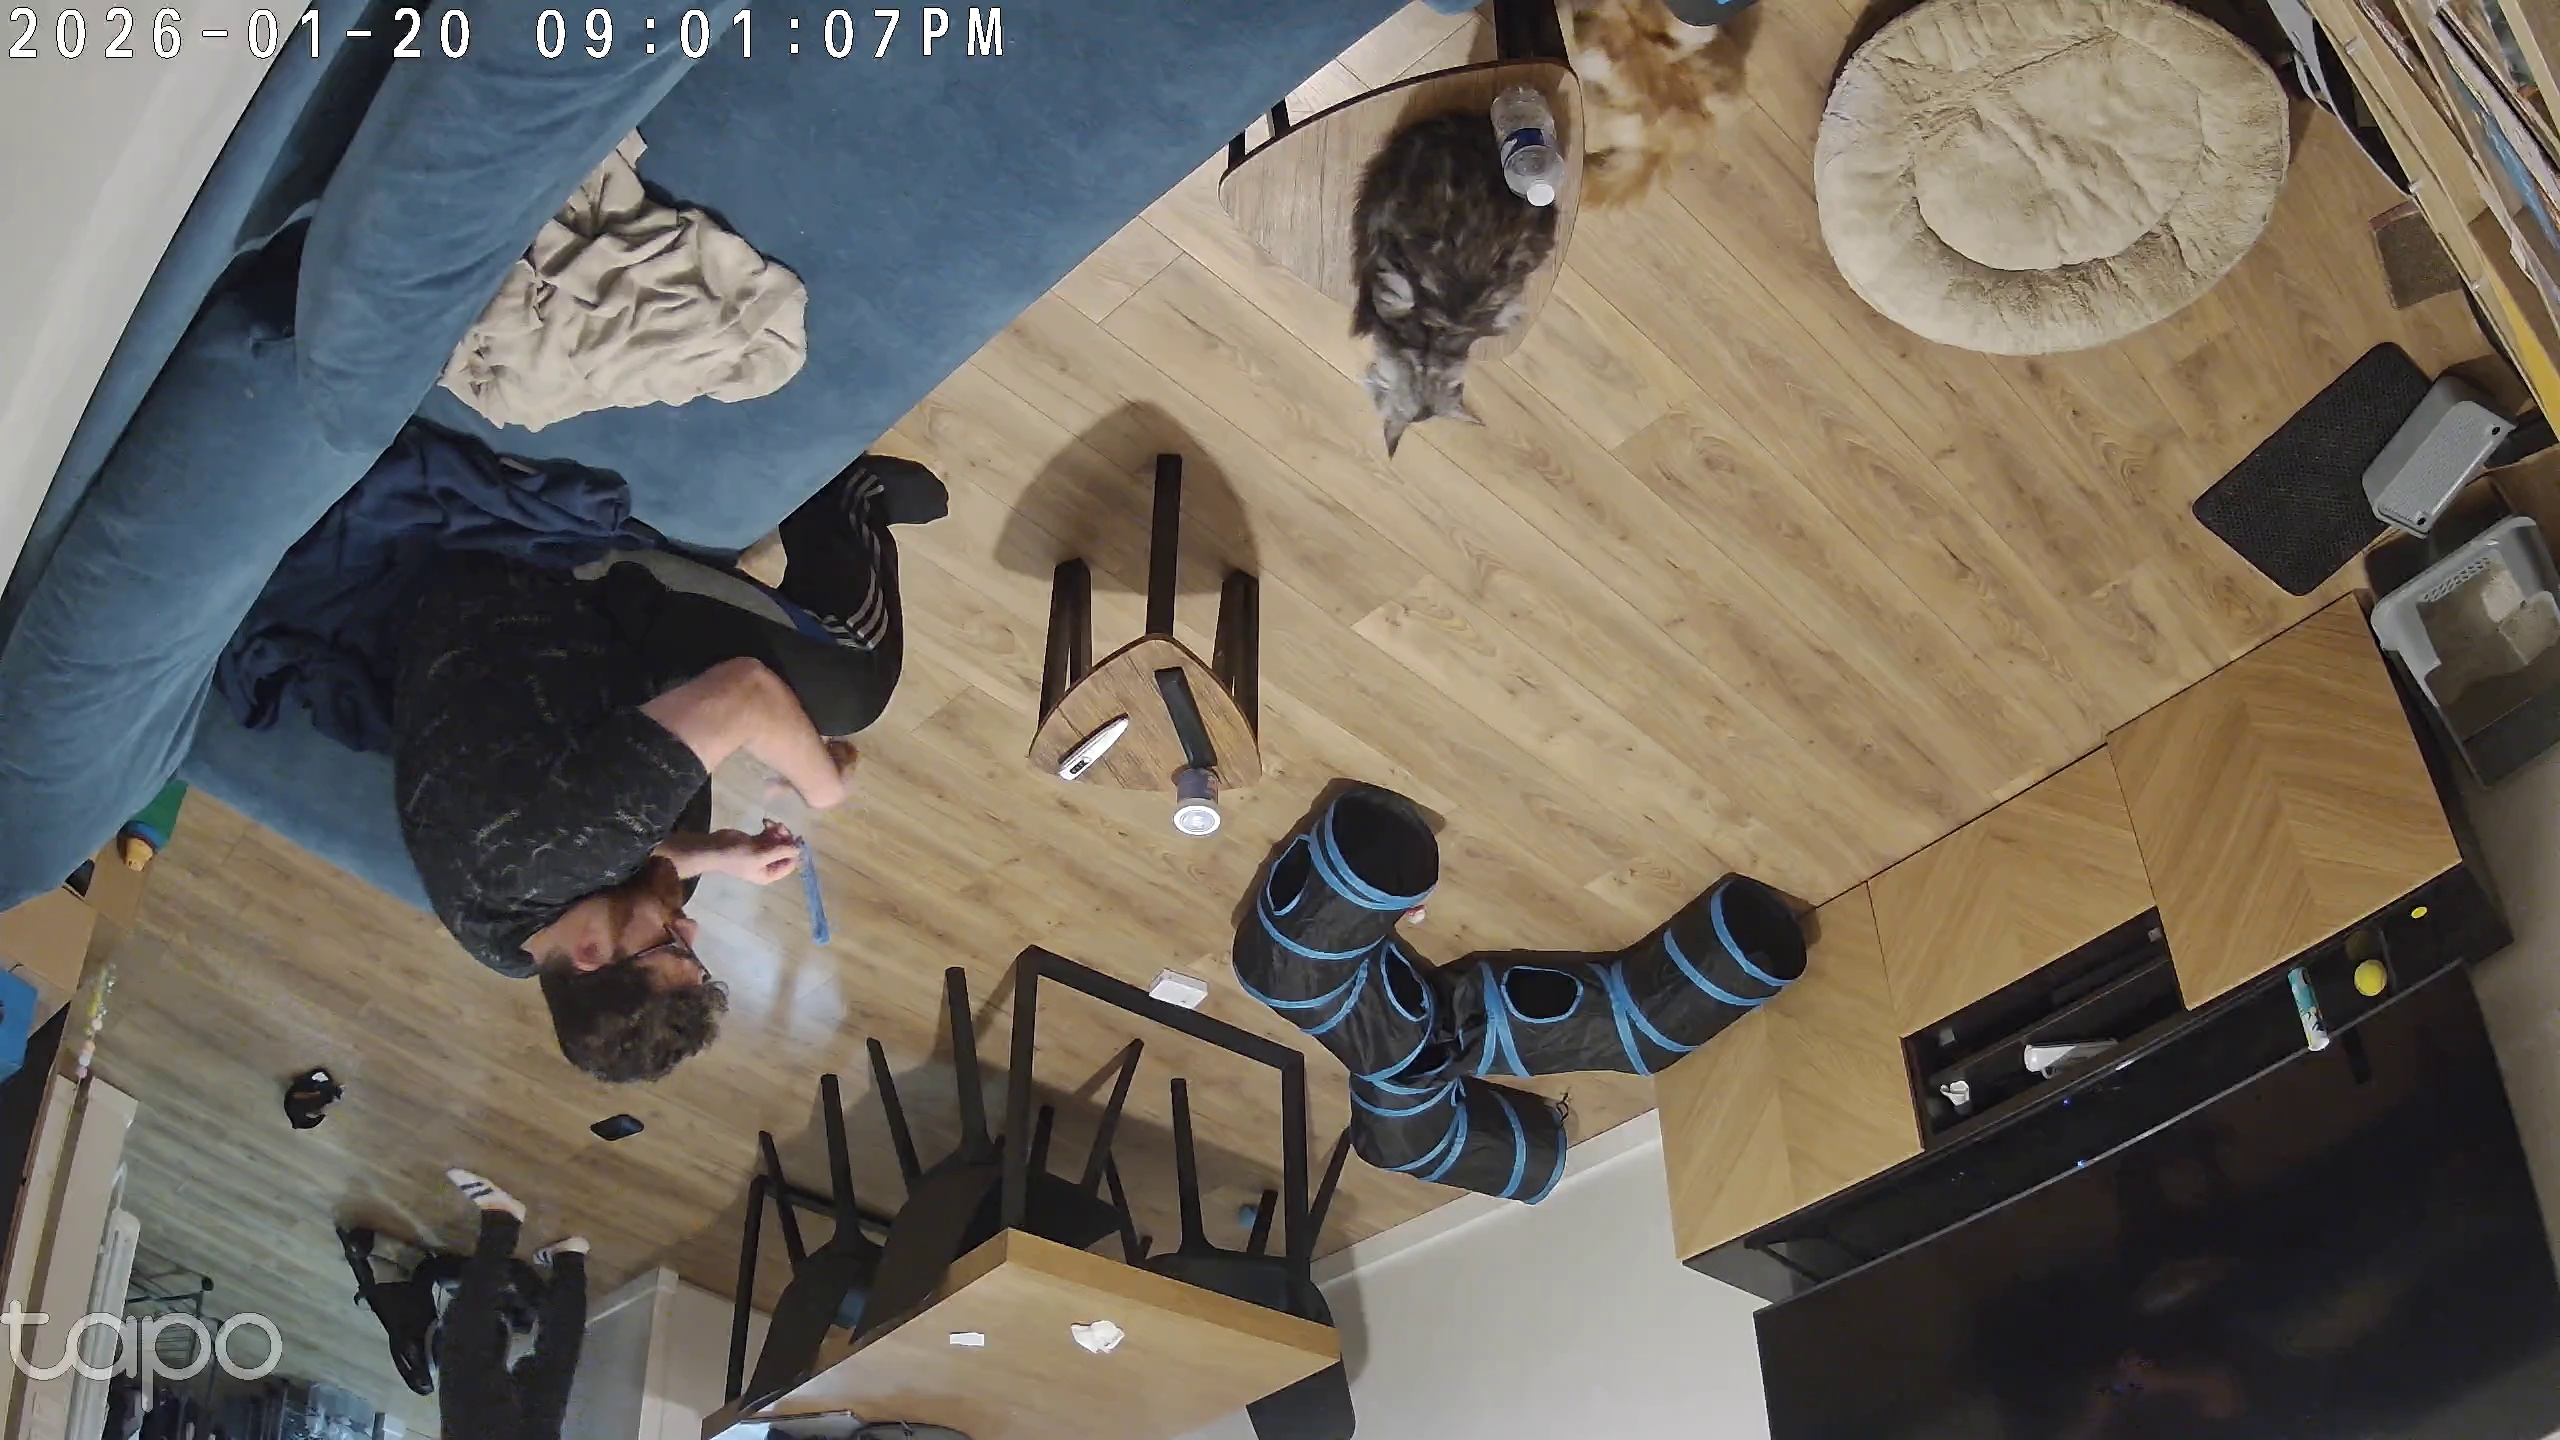Nala: (1340, 100, 1565, 459)
Simba: (1575, 0, 1769, 223)
